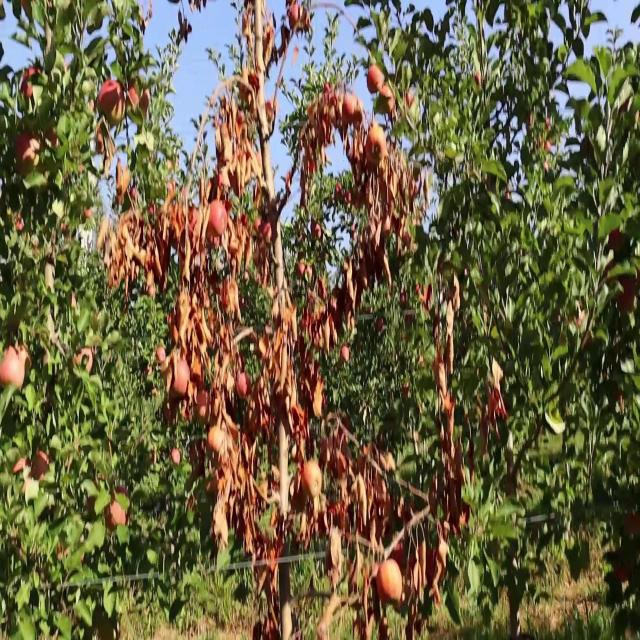apple: (380, 561, 403, 606), (120, 213, 143, 251), (300, 462, 324, 498), (4, 348, 24, 389), (16, 135, 35, 178), (392, 540, 411, 580), (356, 504, 377, 540), (208, 206, 227, 245), (100, 85, 122, 117), (108, 497, 128, 532), (368, 127, 387, 162), (620, 277, 637, 313), (172, 362, 189, 396), (32, 455, 51, 484), (76, 348, 95, 375), (24, 71, 41, 100), (380, 85, 396, 114), (608, 227, 626, 252), (316, 120, 331, 148), (624, 511, 640, 537), (320, 440, 334, 469), (128, 85, 143, 110), (296, 7, 311, 32), (332, 298, 343, 332), (616, 561, 631, 585), (44, 127, 60, 149), (328, 99, 341, 126), (100, 220, 112, 249), (368, 71, 384, 92), (336, 455, 349, 480), (344, 99, 356, 126), (288, 7, 300, 34), (324, 85, 338, 107), (140, 92, 152, 116), (344, 291, 355, 316), (604, 263, 617, 284), (20, 348, 32, 370), (56, 540, 68, 562), (424, 284, 433, 313), (128, 85, 139, 108), (32, 135, 42, 160), (336, 426, 347, 448), (404, 92, 416, 112), (16, 462, 31, 476), (356, 106, 364, 128), (16, 213, 24, 235), (296, 263, 307, 277), (320, 277, 327, 299), (308, 263, 316, 281), (616, 391, 624, 409), (89, 497, 96, 514), (404, 383, 411, 398)
